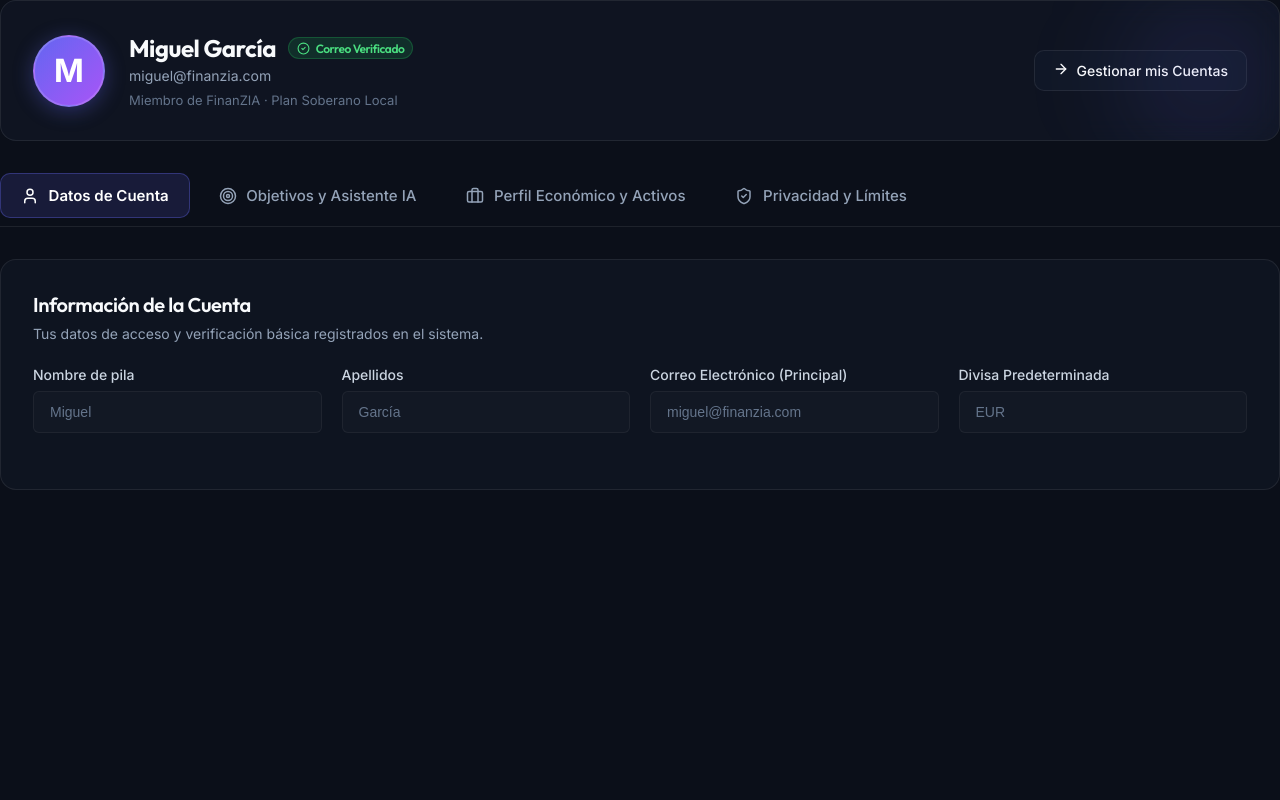
Scenario: ProfileView Component › Tab 3: permite modificar perfil económico y activos
Click the button "Perfil Económico y Activos". click: (576, 196)
box: x1=445 y1=173 x2=706 y2=218
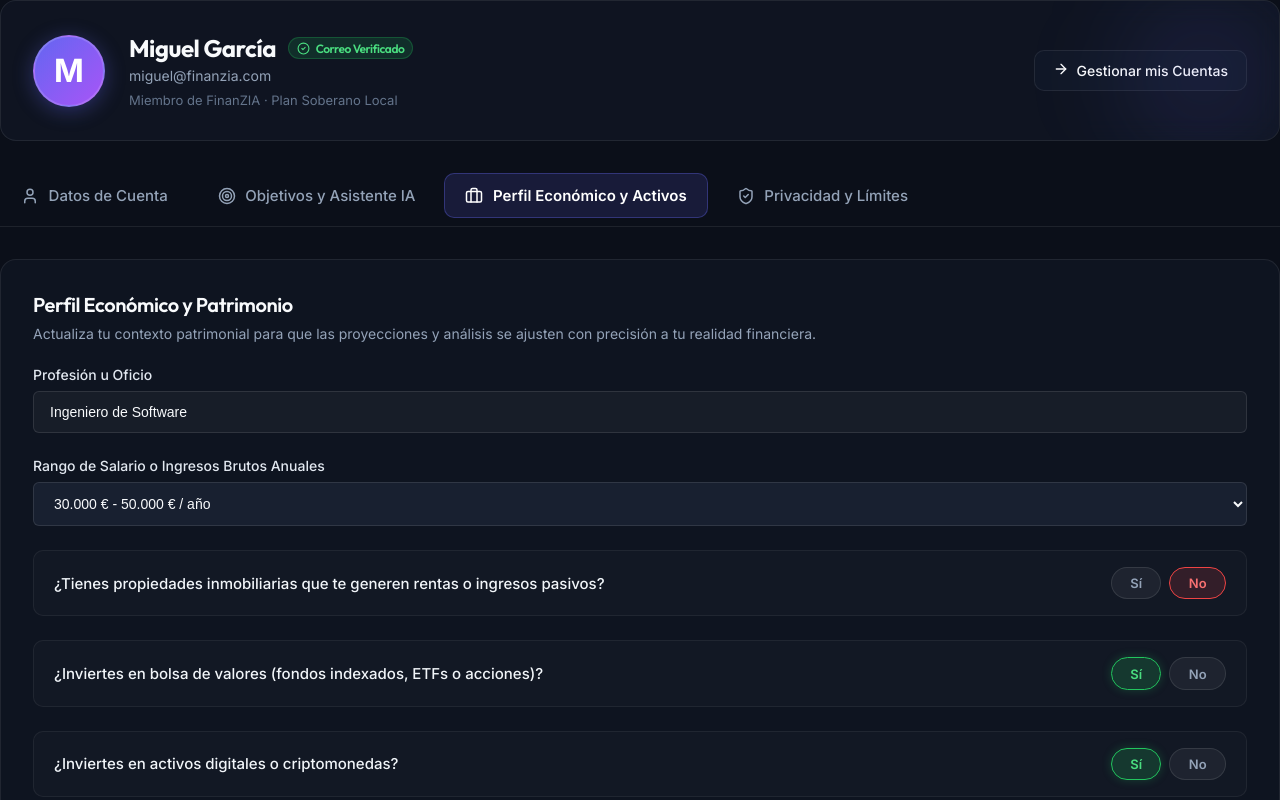
expect the heading "Perfil Económico y Patrimonio" is shown: met, box x1=33 y1=292 x2=293 y2=317
Replace the text in the field showing "Ingeniero de Software" with "Tech Lead". click: (640, 412)
box: x1=33 y1=391 x2=1247 y2=433
(page scrolled)
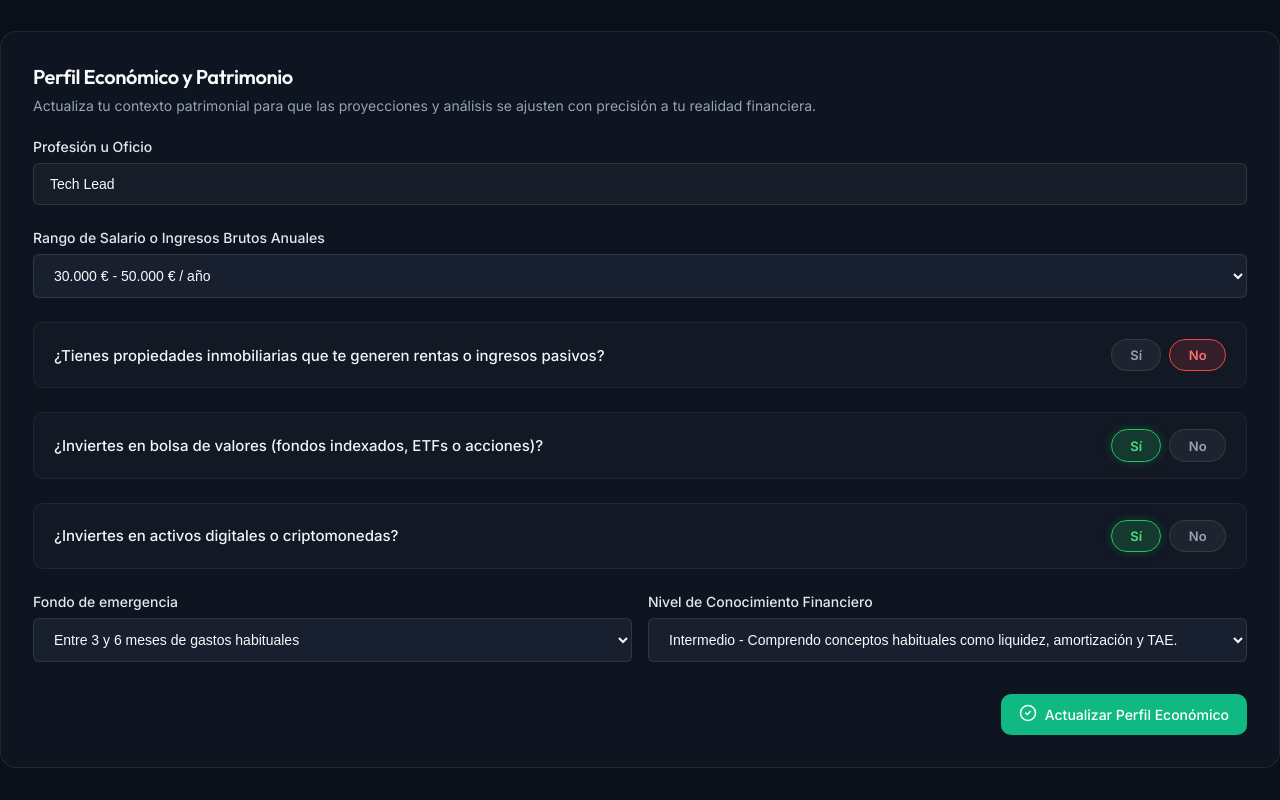
Click the button "Actualizar Perfil Económico". click: (1124, 715)
box: x1=1001 y1=694 x2=1247 y2=735
(page scrolled)
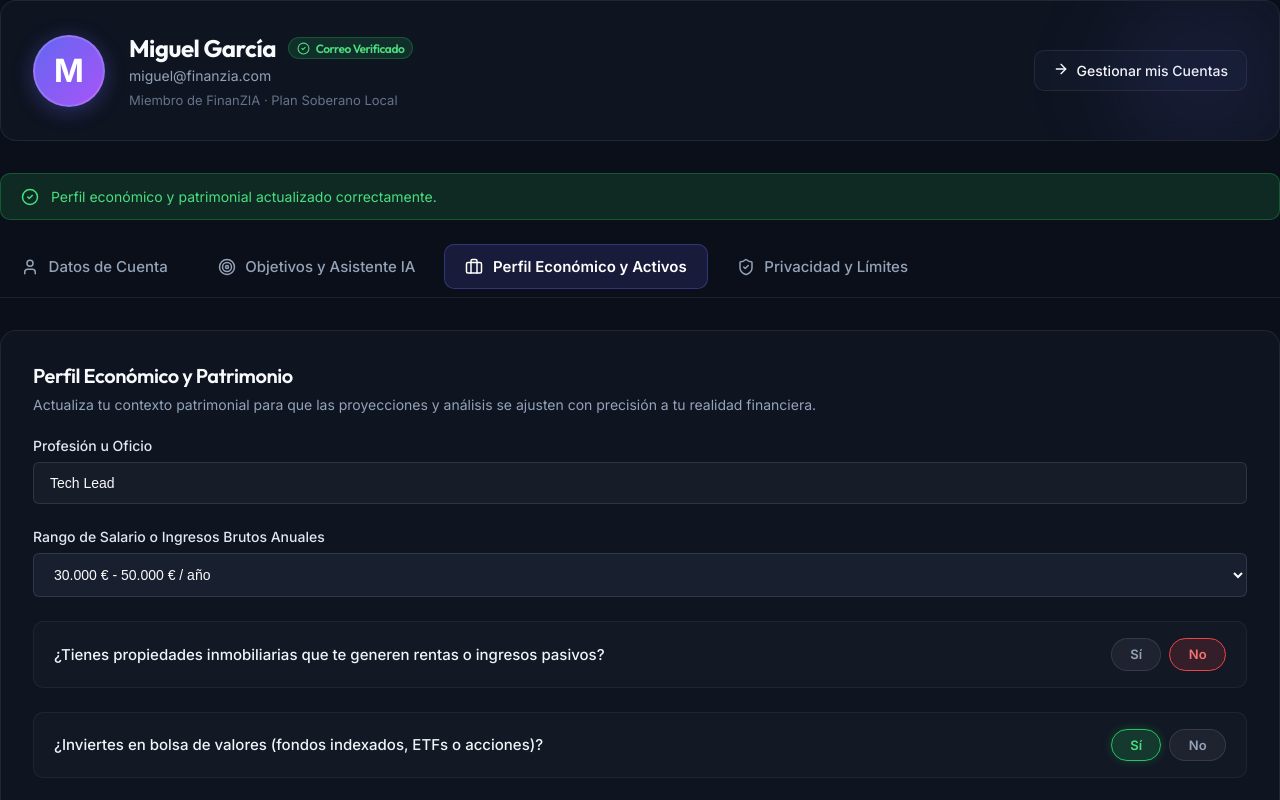
expect the text "Perfil económico y patrimonial actualizado correctamente." is shown: met, box x1=51 y1=188 x2=437 y2=205
